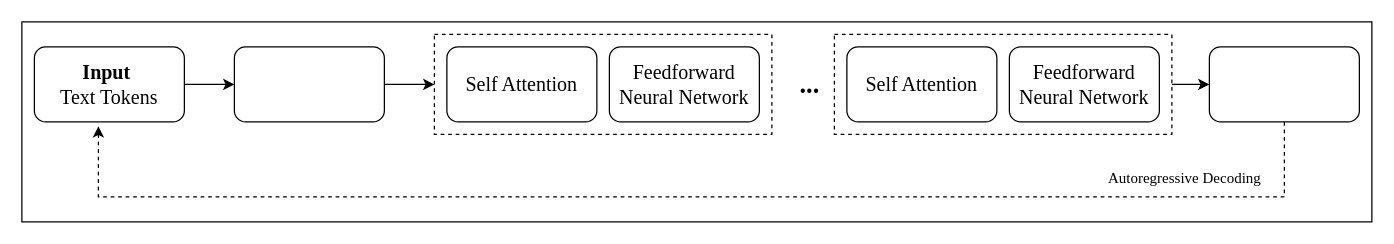
The diagram is 1394 pixels wide and 244 high, and some of its shapes have lost their labels. The shapes that lost their labels are listed below. From the top down, each one's box as (x1, y1, x2, y2) in pixels, then its label:
(233, 46, 384, 122): Token Embeddings
(1208, 46, 1359, 122): Output Text Tokens
